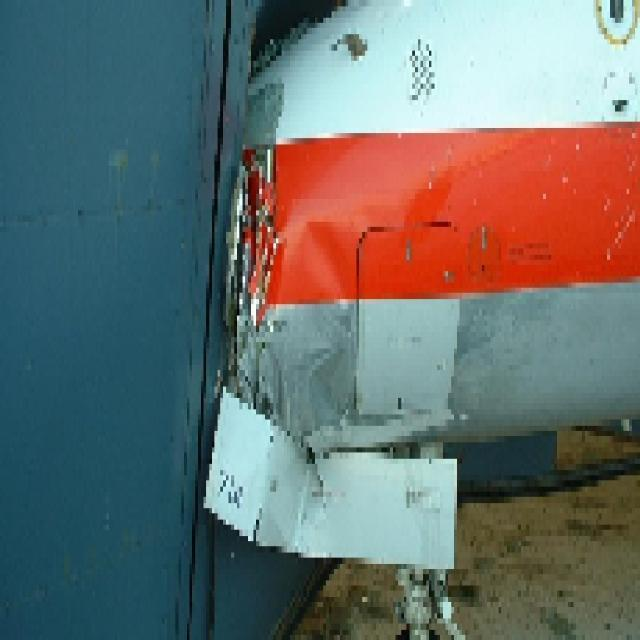dent: (298, 202, 355, 430)
